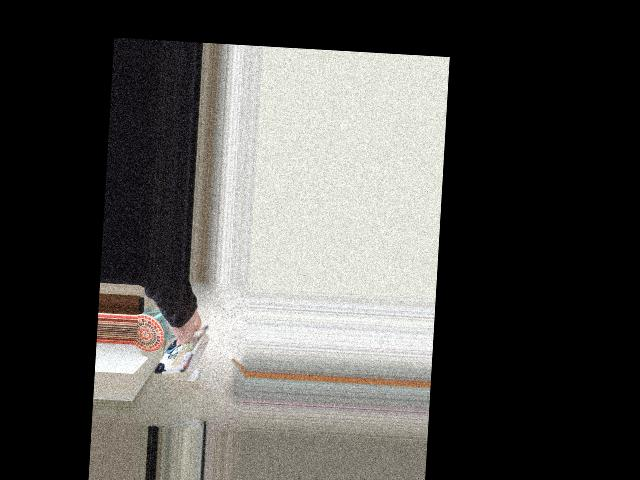cheese: (144, 308, 217, 383)
